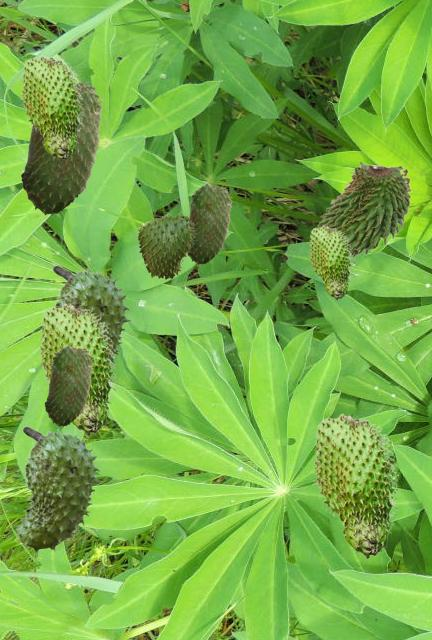guyabano: (312, 413, 398, 558), (14, 426, 102, 554), (20, 83, 102, 215), (38, 303, 116, 435), (44, 265, 132, 380), (316, 160, 411, 257), (20, 55, 83, 161), (44, 345, 92, 426), (137, 213, 195, 280), (188, 183, 231, 264), (308, 225, 352, 299)
